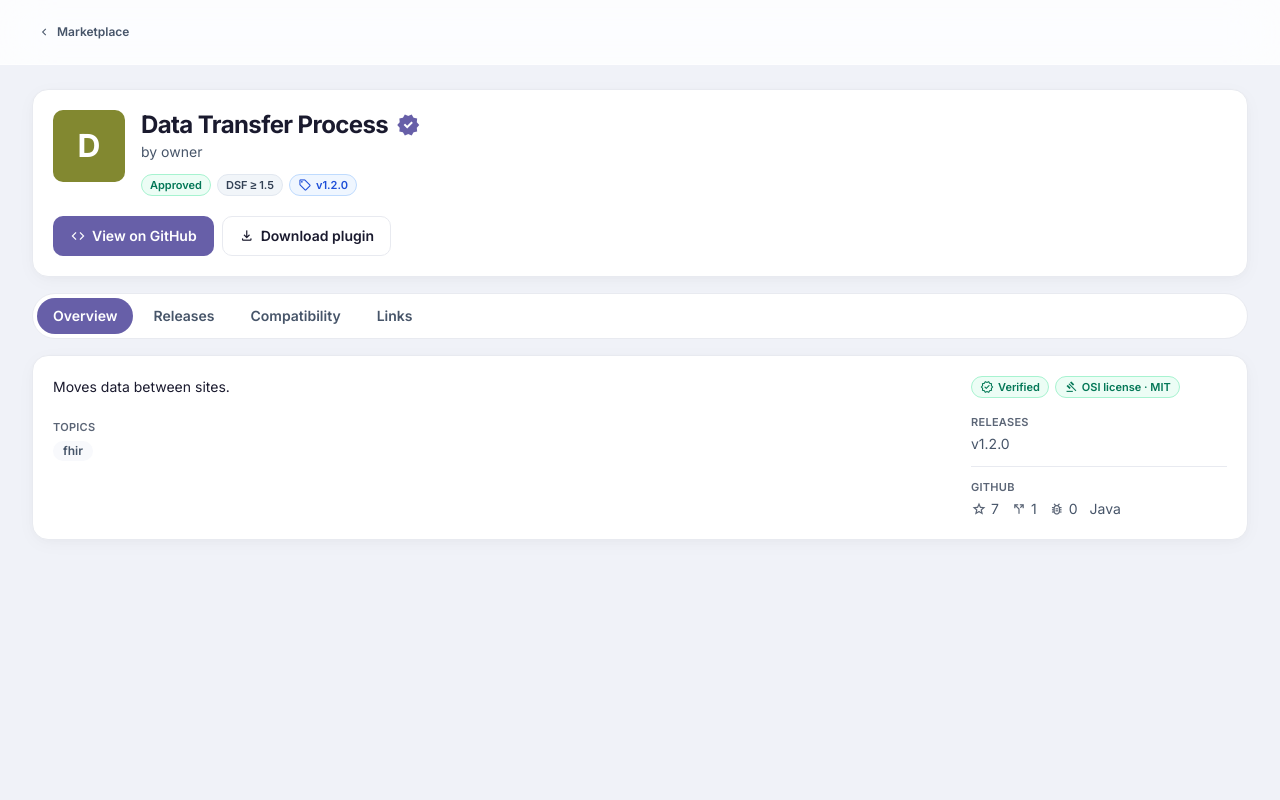
Test: MarketplaceDetailPage › renders the homepage link for a valid https URL
Click the tab "Links".
click(395, 316)  # box [361,298,428,334]
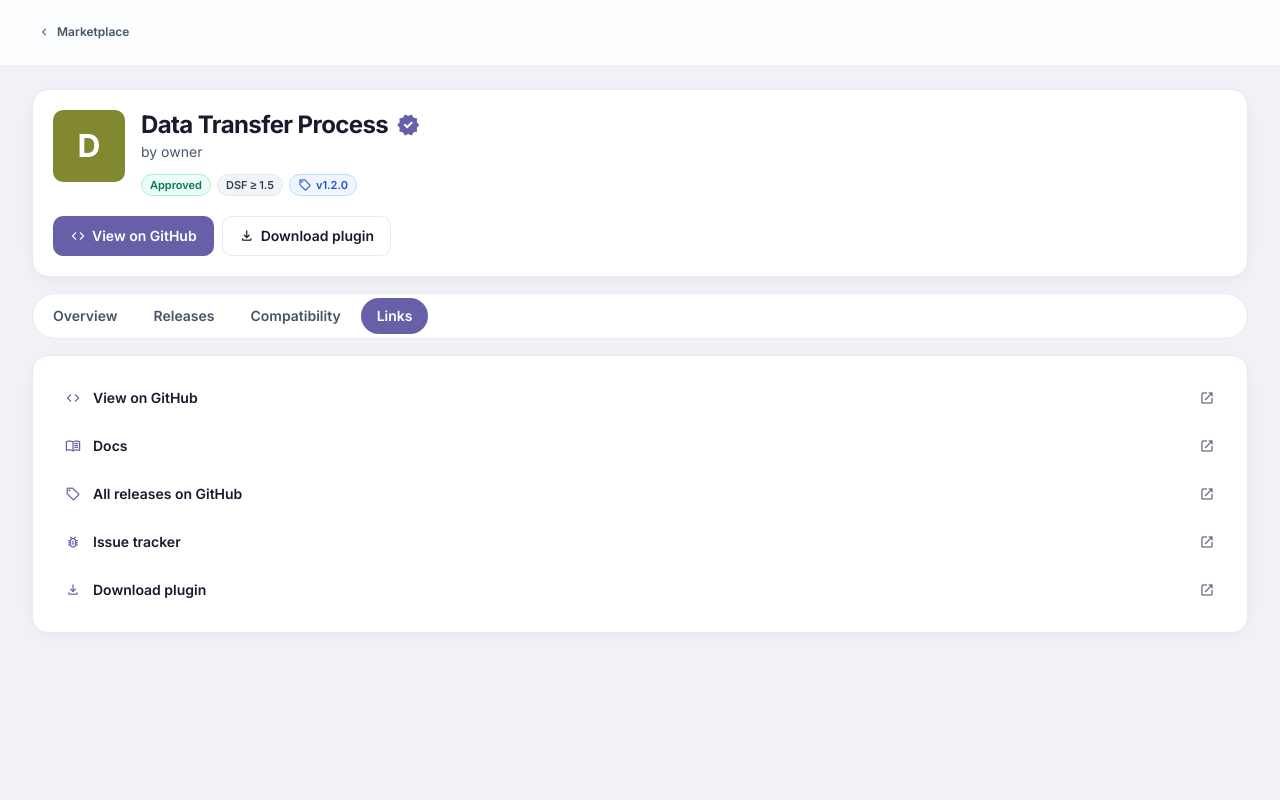
Now the link to "https://docs.example.org" is shown, box [65,436,1215,456]
